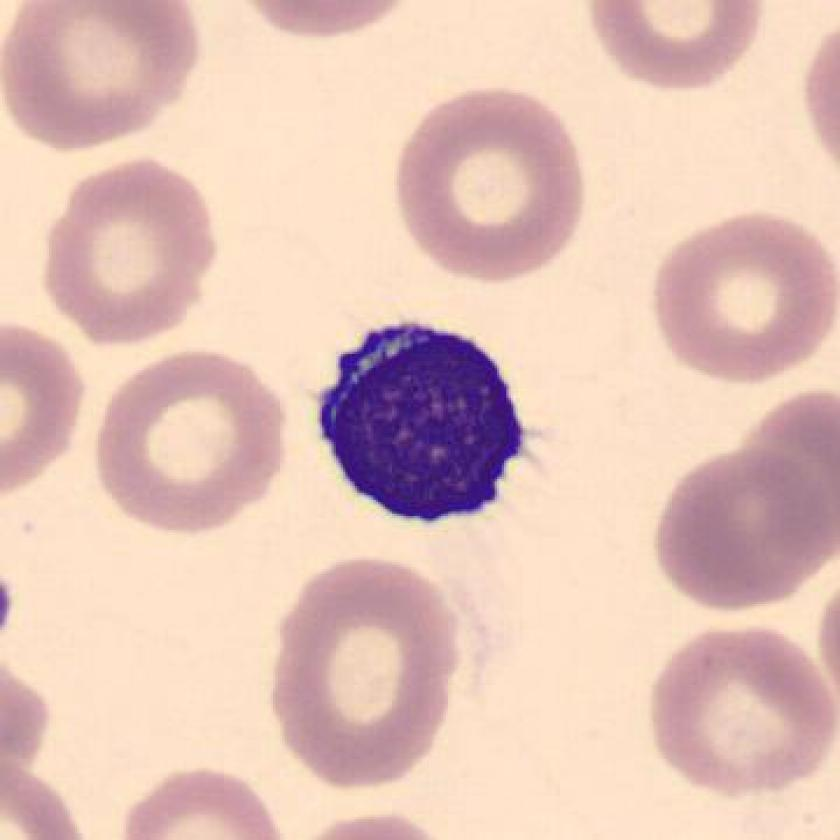lymphocyte: (300, 304, 549, 545)
